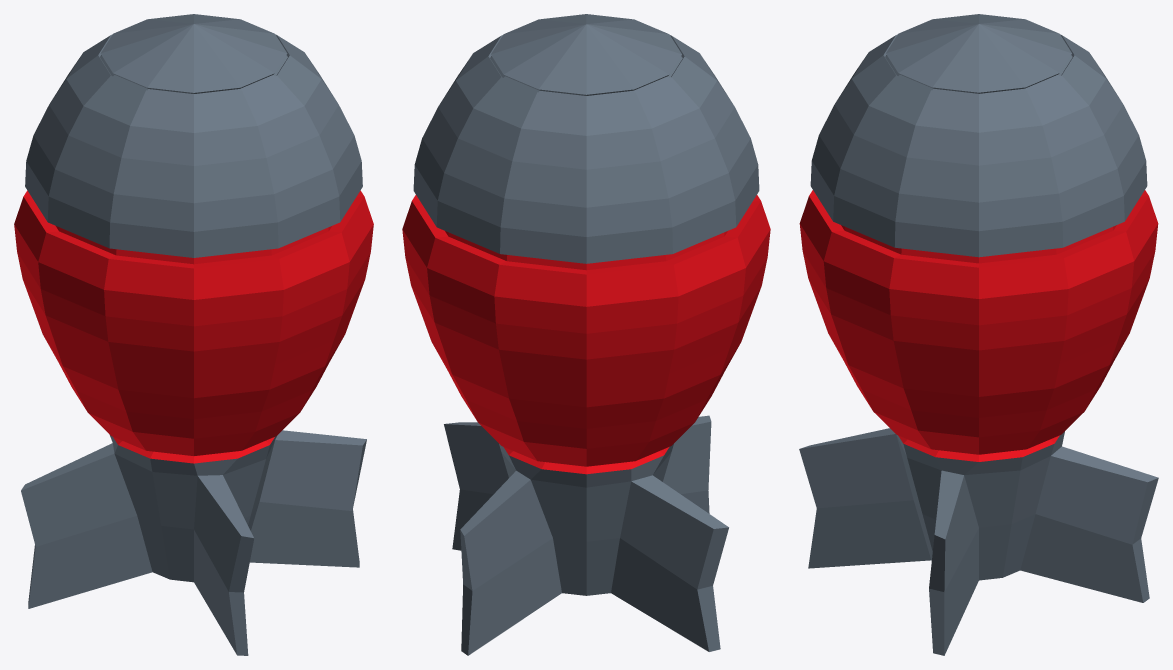
Rendered from fizikBOMBA.fbx.
3 views of the same model, side by side, from view 1: azimuth 30°, elevation 25°; view 2: azimuth 150°, elevation 25°; view 3: azimuth 270°, elevation 25° (orthographic). The views are drawn at different scales.
Visible parts, largest first — view 1: bomba; view 2: bomba; view 3: bomba.
Part boxes in pixels (x1,y1,x2,y2): bomba: (14, 14, 373, 655); bomba: (402, 14, 770, 655); bomba: (799, 14, 1158, 655).
Size of the model in its own units: 226 by 387 by 226.
